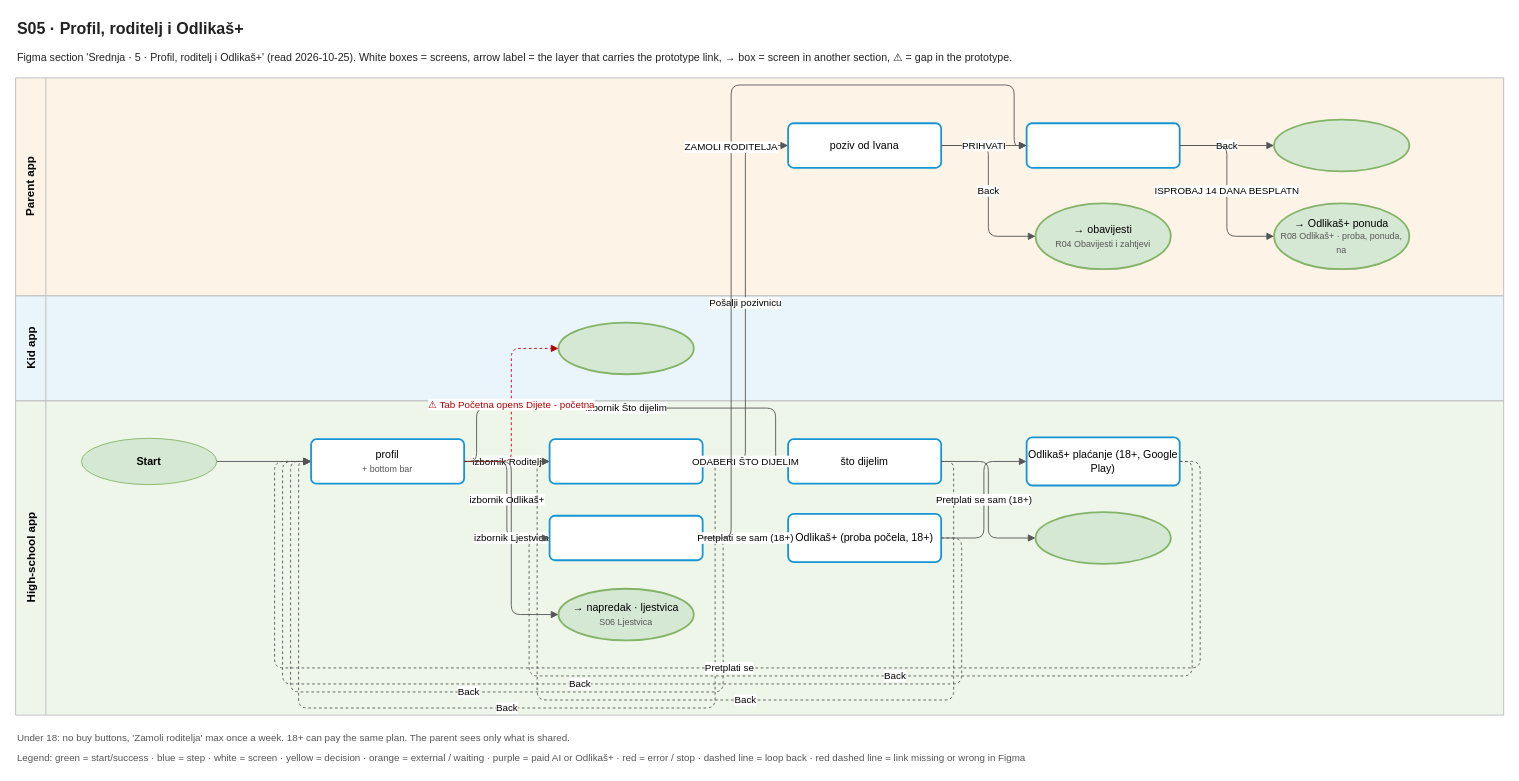
The diagram is 1519 pixels wide and 781 high, and some of its shapes have lost their labels. Each missing label, with the centre of its shape:
"Ivan (srednja)" goes at pixel 1102 145.
"Odlikaš+" goes at pixel 625 537.
"poveži roditelja" goes at pixel 625 461.
"→ početna D02 Početna i navigacija" goes at pixel 625 348.
"→ početna R02 Početna i zadaci" goes at pixel 1341 145.
"→ početna S02 Početna i ocjene" goes at pixel 1102 537.
